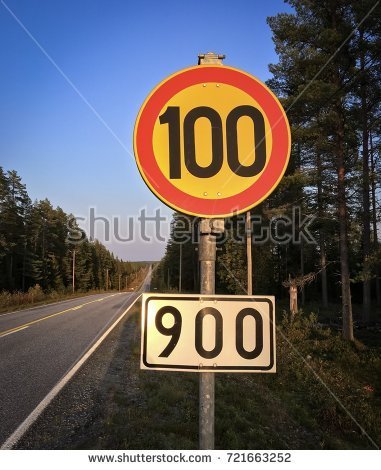Speed_limit_100km: (134, 64, 291, 217)
